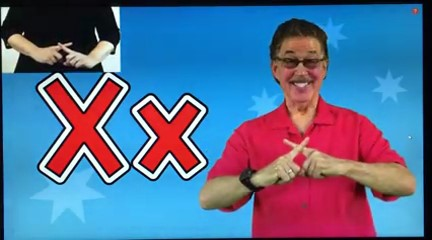X: (263, 131, 346, 192)
